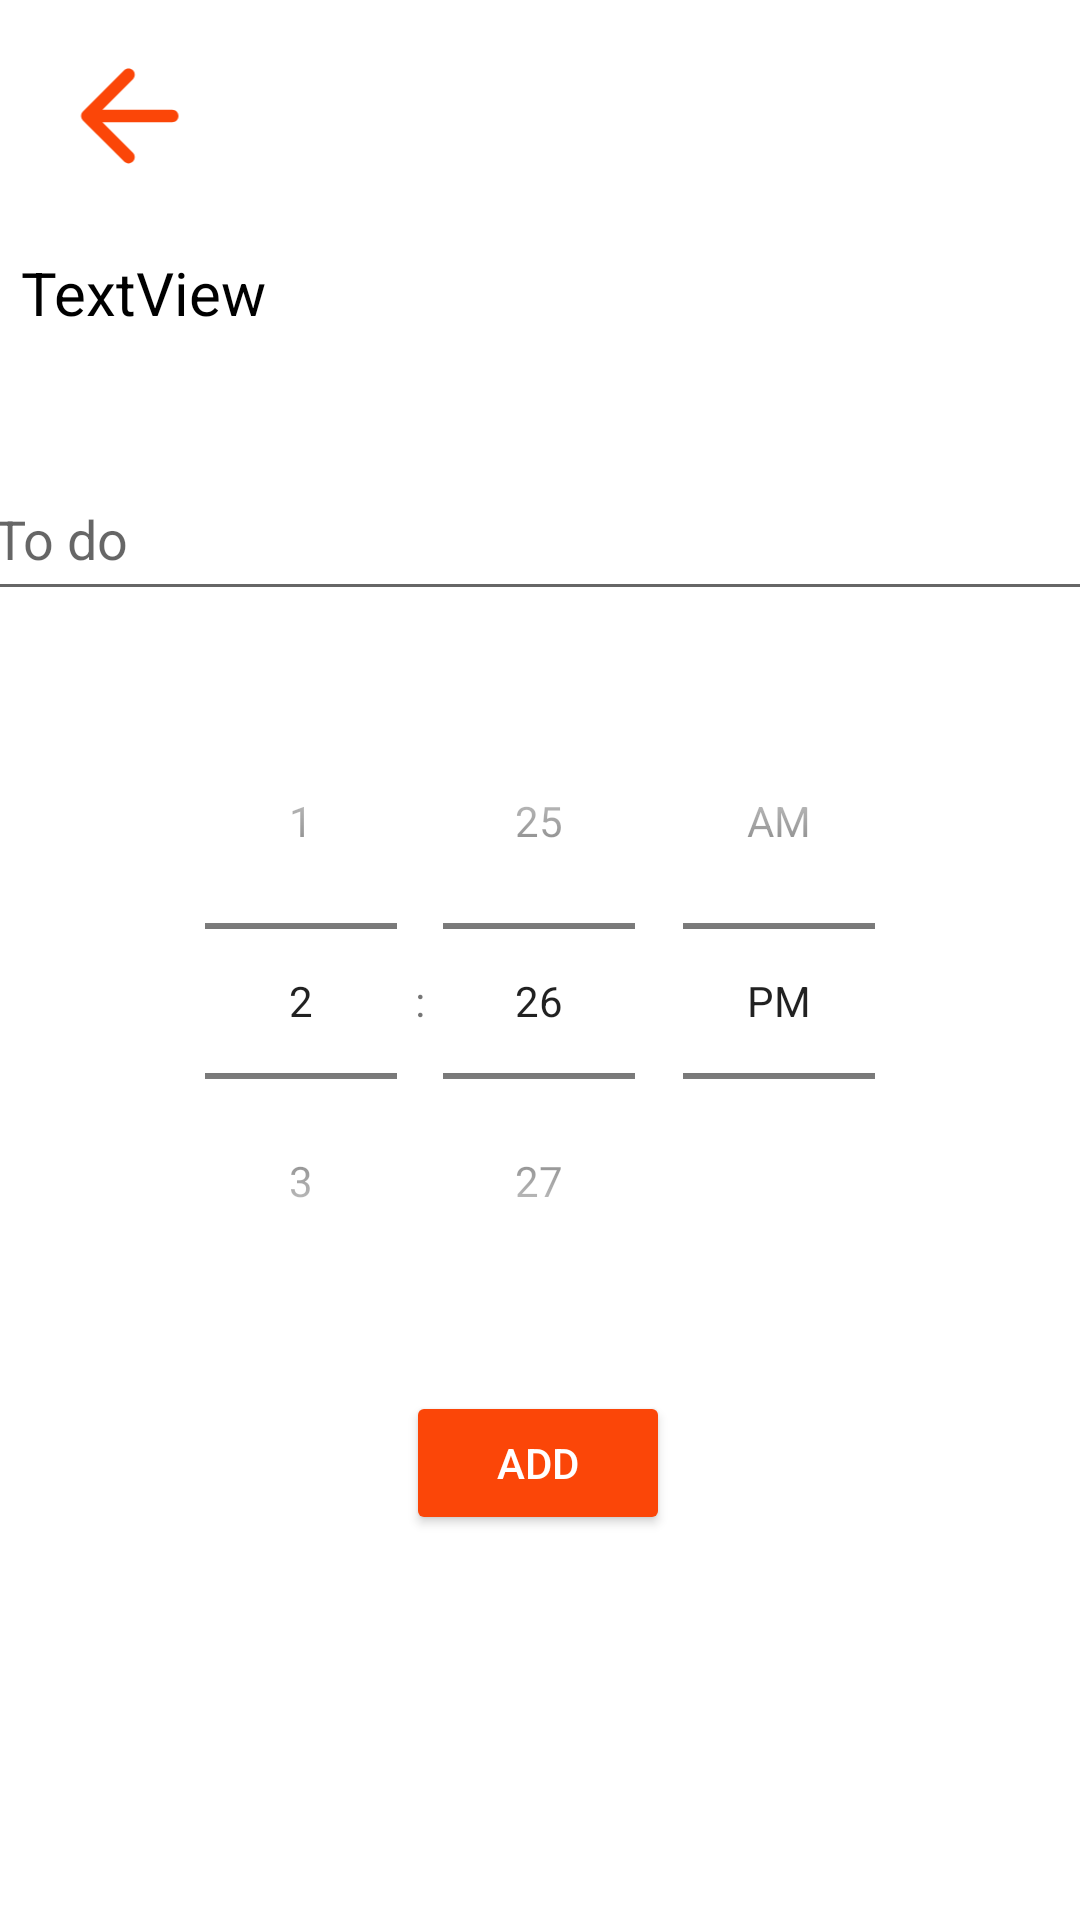

Locate icon controls on the screen. Image size 1080 x 1920, boxes as (x1, y1, x2, y2).
back: (80, 68, 179, 164)
